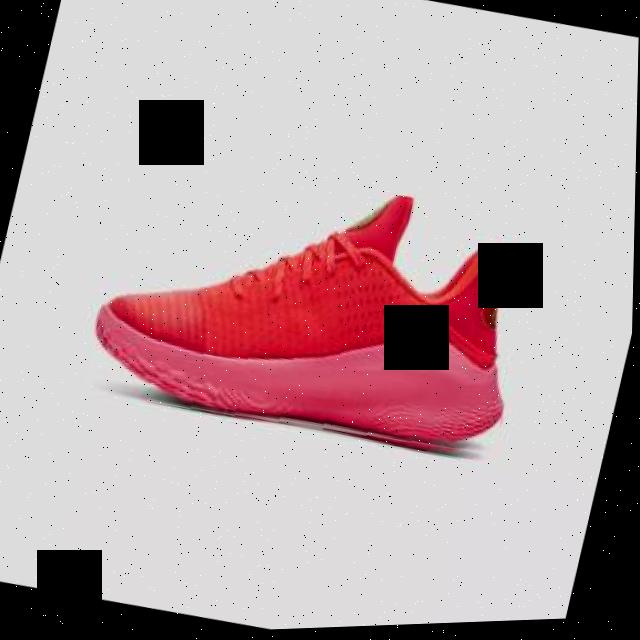shoe: (80, 138, 550, 479)
